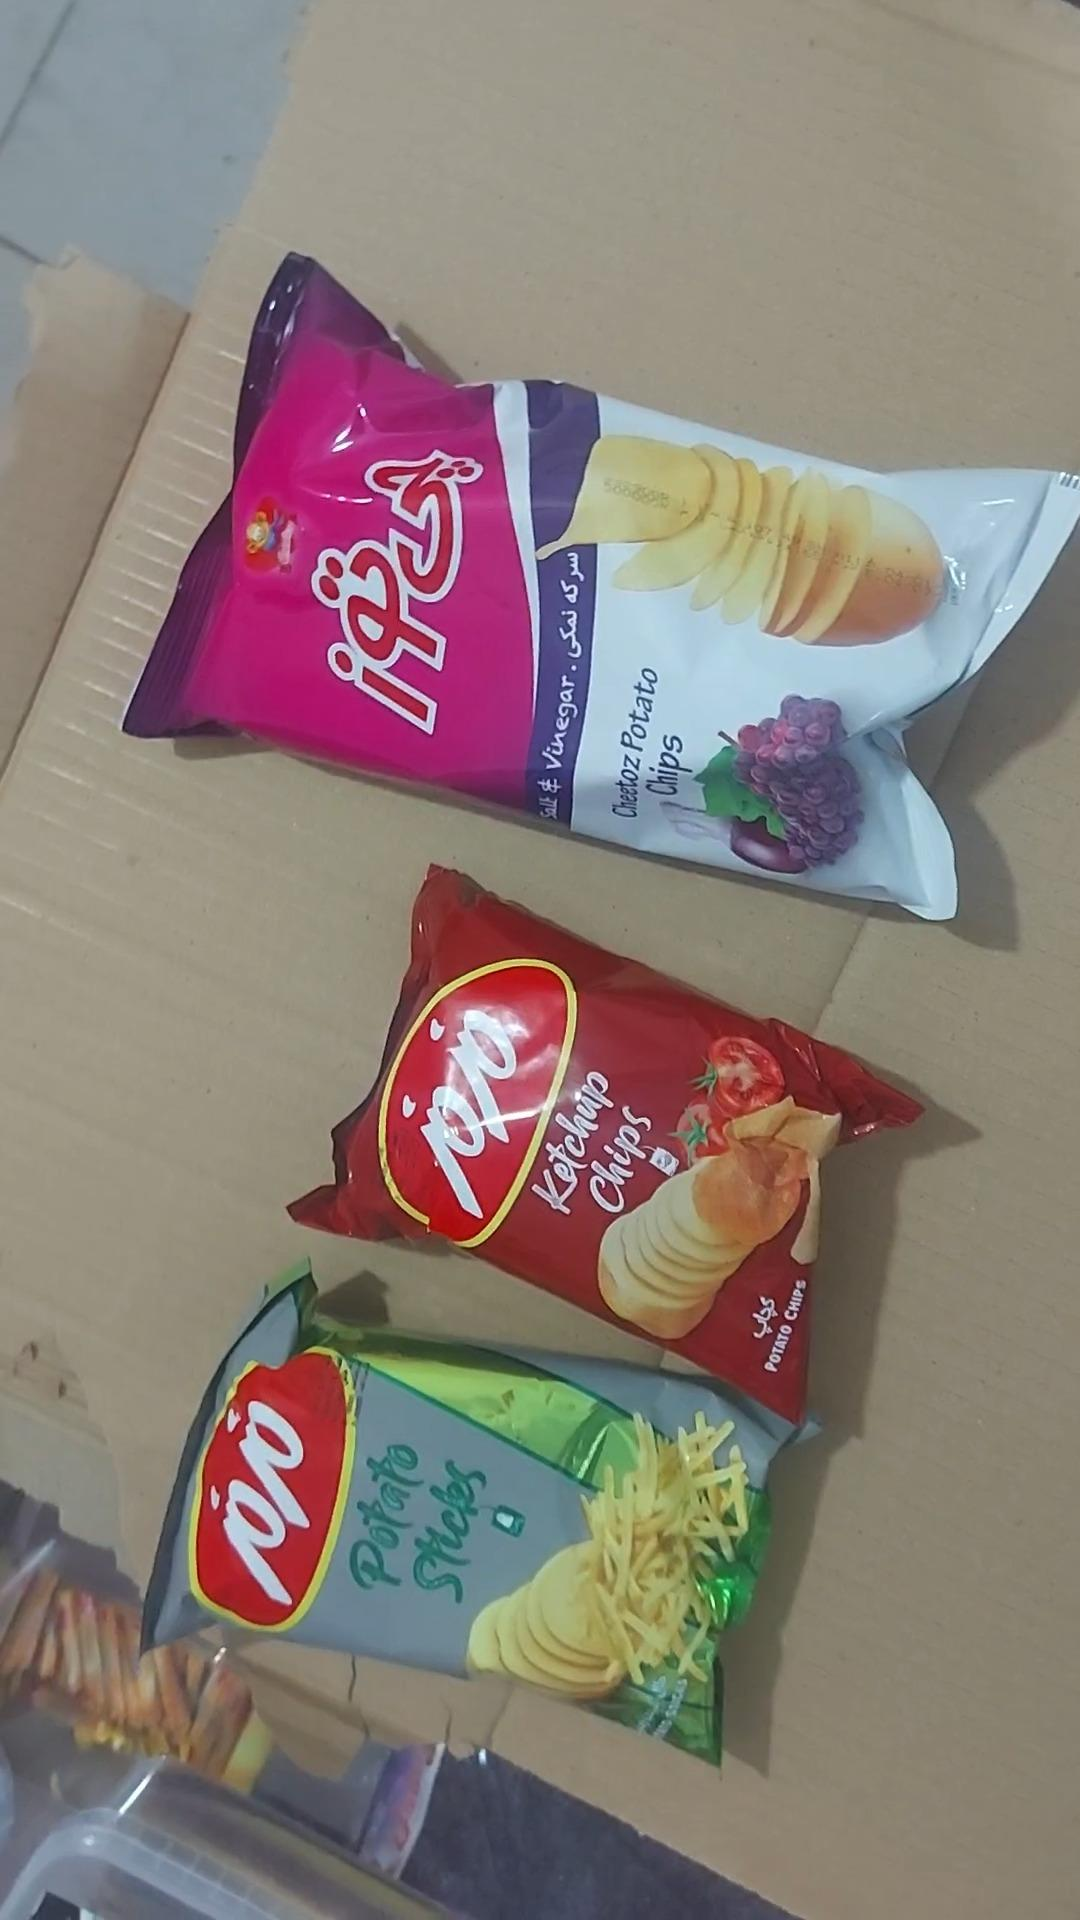Cheetoz vinegar chips: (123, 253, 1079, 920)
Maz Maz ketchup chips: (289, 865, 920, 1435)
Maz Maz potato sticks: (142, 1269, 810, 1764)
